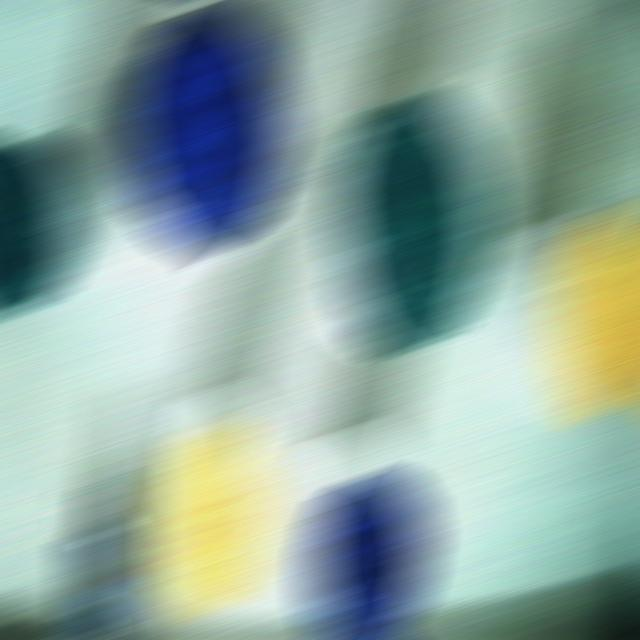blue: (122, 4, 289, 261), (309, 469, 428, 639)
green: (335, 91, 488, 352), (0, 133, 79, 318)
yellow: (144, 421, 273, 616), (548, 206, 639, 423)
